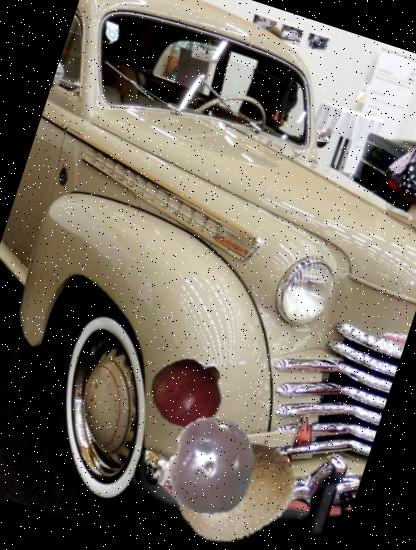Kiwi: (157, 414, 312, 550)
Passion: (148, 402, 274, 528)
Pomegranate: (142, 346, 233, 438)
